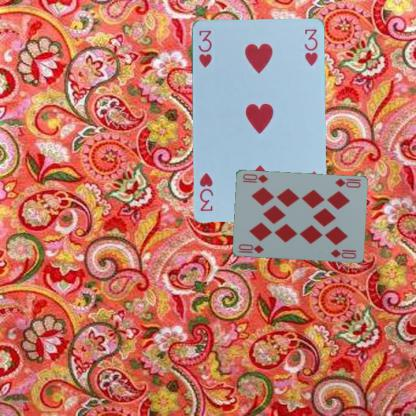10d: (332, 176, 362, 190), (235, 241, 264, 255)
3h: (195, 27, 213, 68)
